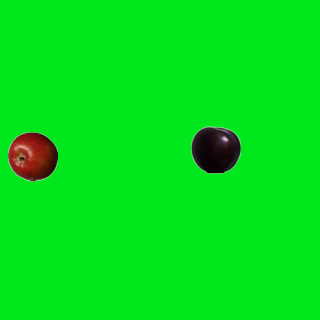Apple Braeburn: (7, 131, 57, 181)
Cherry Wax Black: (190, 124, 240, 174)
